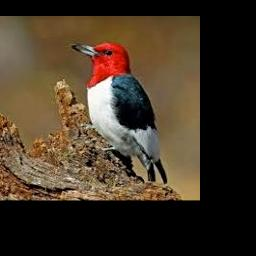Woodpecker: (71, 42, 168, 185)
